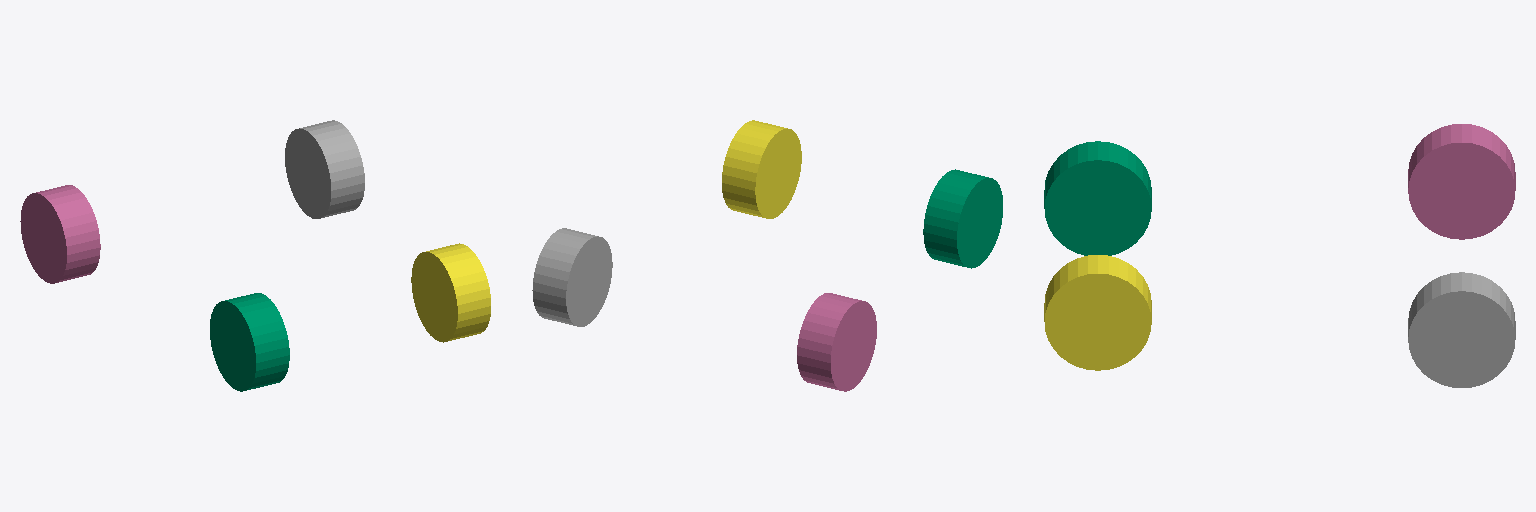
robot.urdf — ackermann_logistic_robot:
<?xml version="1.0"?>
<robot name="ackermann_logistic_robot" xmlns:xacro="http://www.ros.org/wiki/xacro">

  <!-- ============ base ============ -->
  <link name="base_link">
    <inertial>
      <origin xyz="0 0 0" rpy="0 0 0"/>
      <mass value="1.0"/>  <!-- placeholder -->
      <inertia ixx="0.1" ixy="0" ixz="0" iyy="0.1" iyz="0" izz="0.1"/>
    </inertial>
  </link>

  <!-- Chassis fixed to base_link -->
  <link name="chassis_link">
    <inertial>
      <!-- from SDF (approx) -->
      <origin xyz="1e-06 0.07307 0.65096" rpy="0 0 0"/>
      <mass value="1580"/>
      <inertia ixx="1997.86" ixy="-3e-05" ixz="-1e-06" iyy="442.769" iyz="62.5206" izz="2238.05"/>
    </inertial>

    <visual>
      <origin xyz="0 0 0" rpy="0 0 0"/>
      <geometry>
        <mesh filename="model://ackermann_logistic_robot/meshes/chassis.dae" scale="0.5 0.5 0.5"/>
      </geometry>
    </visual>

    <collision>
      <origin xyz="0 0 0" rpy="0 0 0"/>
      <geometry>
        <mesh filename="model://ackermann_logistic_robot/meshes/chassis.dae" scale="0.5 0.5 0.5"/>
      </geometry>
    </collision>
  </link>

  <joint name="chassis_link_joint" type="fixed">
    <origin xyz="0 0 0" rpy="0 0 0"/>
    <parent link="base_link"/>
    <child link="chassis_link"/>
  </joint>

  <!-- ============ rear wheels (revolute about X) ============ -->
  <!-- SDF uses axis -1 0 0; in URDF we just define +X and direction is handled by controllers -->
  <link name="bl_1">
    <inertial>
      <origin xyz="0 0 0" rpy="0 0 0"/>
      <mass value="24.5"/>
      <inertia ixx="1.84514" ixy="0" ixz="0" iyy="1.04961" iyz="0" izz="1.04961"/>
    </inertial>
    <visual>
      <origin xyz="0 0 0" rpy="0 1.5708 0"/>
      <geometry><cylinder radius="0.072" length="0.06"/></geometry>
    </visual>
    <collision>
      <origin xyz="0 0 0" rpy="0 1.5708 0"/>
      <geometry><cylinder radius="0.072" length="0.06"/></geometry>
    </collision>
  </link>

  <joint name="bl_axle" type="continuous">
    <origin xyz="-0.18 -0.244 0.0" rpy="0 0 0"/>
    <parent link="chassis_link"/>
    <child link="bl_1"/>
    <axis xyz="1 0 0"/>
    <!-- continuous: omit limits (or provide effort+velocity if you keep <limit/>) -->
  </joint>

  <link name="br_1">
    <inertial>
      <origin xyz="-0.0377 0 0" rpy="0 0 0"/>
      <mass value="24.5"/>
      <inertia ixx="1.84514" ixy="0" ixz="0" iyy="1.04961" iyz="0" izz="1.04961"/>
    </inertial>
    <visual>
      <origin xyz="0 0 0" rpy="0 1.5708 0"/>
      <geometry><cylinder radius="0.072" length="0.06"/></geometry>
    </visual>
    <collision>
      <origin xyz="0 0 0" rpy="0 1.5708 0"/>
      <geometry><cylinder radius="0.072" length="0.06"/></geometry>
    </collision>
  </link>

  <joint name="br_axle" type="continuous">
    <origin xyz="0.18 -0.244 0.0" rpy="0 0 0"/>
    <parent link="chassis_link"/>
    <child link="br_1"/>
    <axis xyz="1 0 0"/>
  </joint>

  <!-- ============ steering knuckles (revolute about Z) ============ -->
  <link name="l_steer_1">
    <inertial>
      <origin xyz="0.003381 0 0.02162" rpy="0 0 0"/>
      <mass value="1"/>
      <inertia ixx="1" ixy="0" ixz="0" iyy="1" iyz="0" izz="1"/>
    </inertial>
  </link>

  <joint name="l_steer" type="revolute">
    <origin xyz="-0.236 0.244 0.0" rpy="0 0 0"/>
    <parent link="chassis_link"/>
    <child link="l_steer_1"/>
    <axis xyz="0 0 1"/>
    <limit lower="-0.95" upper="0.95" effort="100.0" velocity="5.0"/>
  </joint>

  <link name="r_steer_1">
    <inertial>
      <origin xyz="0.003381 0 0.02162" rpy="0 0 0"/>
      <mass value="1"/>
      <inertia ixx="1" ixy="0" ixz="0" iyy="1" iyz="0" izz="1"/>
    </inertial>
  </link>

  <joint name="r_steer" type="revolute">
    <origin xyz="0.236 0.244 0.0" rpy="0 0 0"/>
    <parent link="chassis_link"/>
    <child link="r_steer_1"/>
    <axis xyz="0 0 1"/>
    <limit lower="-0.95" upper="0.95" effort="100.0" velocity="5.0"/>
  </joint>

  <!-- ============ front wheels (rotate about X, attached to the steer links) ============ -->
  <link name="fl_1">
    <inertial>
      <origin xyz="-0.0377 0 0" rpy="0 0 0"/>
      <mass value="24.5"/>
      <inertia ixx="1.84514" ixy="0" ixz="0" iyy="1.04961" iyz="0" izz="1.04961"/>
    </inertial>
    <visual>
      <origin xyz="0 0 0" rpy="0 1.5708 0"/>
      <geometry><cylinder radius="0.072" length="0.06"/></geometry>
    </visual>
    <collision>
      <origin xyz="0 0 0" rpy="0 1.5708 0"/>
      <geometry><cylinder radius="0.072" length="0.06"/></geometry>
    </collision>
  </link>

  <joint name="fl_axle" type="continuous">
    <origin xyz="0 0 0" rpy="0 0 0"/>
    <parent link="l_steer_1"/>
    <child link="fl_1"/>
    <axis xyz="1 0 0"/>
  </joint>

  <link name="fr_1">
    <inertial>
      <origin xyz="-0.0377 0 0" rpy="0 0 0"/>
      <mass value="24.5"/>
      <inertia ixx="1.84514" ixy="0" ixz="0" iyy="1.04961" iyz="0" izz="1.04961"/>
    </inertial>
    <visual>
      <origin xyz="0 0 0" rpy="0 1.5708 0"/>
      <geometry><cylinder radius="0.072" length="0.06"/></geometry>
    </visual>
    <collision>
      <origin xyz="0 0 0" rpy="0 1.5708 0"/>
      <geometry><cylinder radius="0.072" length="0.06"/></geometry>
    </collision>
  </link>

  <joint name="fr_axle" type="continuous">
    <origin xyz="0 0 0" rpy="0 0 0"/>
    <parent link="r_steer_1"/>
    <child link="fr_1"/>
    <axis xyz="1 0 0"/>
  </joint>

  <!-- ============ platform / lift: MAKE IT STATIC (fixed) ============ -->
  <link name="lift_link">
    <inertial>
      <origin xyz="0 0 0" rpy="0 0 0"/>
      <mass value="0.1"/>
      <inertia ixx="0.001" ixy="0" ixz="0" iyy="0.001" iyz="0" izz="0.001"/>
    </inertial>
    <visual>
      <origin xyz="0 0 0" rpy="0 0 0"/>
      <geometry>
        <mesh filename="model://ackermann_logistic_robot/meshes/platform.dae" scale="0.5 0.5 0.5"/>
      </geometry>
    </visual>
    <collision>
      <origin xyz="0 0 0" rpy="0 0 0"/>
      <geometry>
        <box size="0.2805 0.2 0.03"/>
      </geometry>
    </collision>
  </link>

  <!-- Static (fixed) instead of prismatic; raise +Z a bit (0.20 m) -->
  <joint name="lift_fixed_joint" type="fixed">
    <origin xyz="0 0 0.20" rpy="0 0 0"/>
    <parent link="base_link"/>
    <child link="lift_link"/>
  </joint>

  <!-- ============ Gazebo (Classic) tags ============ -->
  <!-- wheel visuals using your DAE meshes (optional prettiness) -->
  <gazebo reference="fl_1">
    <visual>
      <geometry>
        <mesh filename="model://ackermann_logistic_robot/meshes/wheel.dae" scale="0.5 0.5 0.5"/>
      </geometry>
    </visual>
  </gazebo>
  <gazebo reference="fr_1">
    <visual>
      <geometry>
        <mesh filename="model://ackermann_logistic_robot/meshes/wheel.dae" scale="0.5 0.5 0.5"/>
      </geometry>
    </visual>
  </gazebo>
  <gazebo reference="bl_1">
    <visual>
      <geometry>
        <mesh filename="model://ackermann_logistic_robot/meshes/wheel.dae" scale="0.5 0.5 0.5"/>
      </geometry>
    </visual>
  </gazebo>
  <gazebo reference="br_1">
    <visual>
      <geometry>
        <mesh filename="model://ackermann_logistic_robot/meshes/wheel.dae" scale="0.5 0.5 0.5"/>
      </geometry>
    </visual>
  </gazebo>

  <!-- Ackermann drive plugin with your joint map -->
  <gazebo>
    <plugin name="ackermann_drive" filename="libgazebo_ros_ackermann_drive.so">
      <ros>
        <remapping>cmd_vel:=cmd_vel</remapping>
        <remapping>odom:=odom</remapping>
        <remapping>distance:=distance</remapping>
      </ros>

      <update_rate>100.0</update_rate>

      <front_left_joint>fl_axle</front_left_joint>
      <front_right_joint>fr_axle</front_right_joint>
      <rear_left_joint>bl_axle</rear_left_joint>
      <rear_right_joint>br_axle</rear_right_joint>
      <left_steering_joint>l_steer</left_steering_joint>
      <right_steering_joint>r_steer</right_steering_joint>

      <max_steer>0.52</max_steer>
      <max_steering_angle>0.64</max_steering_angle>
      <max_speed>50.0</max_speed>

      <left_steering_pid_gain>[phone redacted]</left_steering_pid_gain>
      <left_steering_i_range>0 0</left_steering_i_range>
      <right_steering_pid_gain>[phone redacted]</right_steering_pid_gain>
      <right_steering_i_range>0 0</right_steering_i_range>
      <linear_velocity_pid_gain>1000 100 10</linear_velocity_pid_gain>
      <linear_velocity_i_range>0 0</linear_velocity_i_range>

      <publish_odom>true</publish_odom>
      <publish_odom_tf>true</publish_odom_tf>
      <publish_wheel_tf>true</publish_wheel_tf>
      <publish_distance>true</publish_distance>

      <odometry_frame>odom</odometry_frame>
      <robot_base_frame>chassis_link</robot_base_frame>
    </plugin>
  </gazebo>

</robot>

--- Render facts (derived) ---
The picture shows the robot from 3 angles, left to right: view 1: azimuth 30°, elevation 25°; view 2: azimuth 150°, elevation 25°; view 3: azimuth 270°, elevation 25°; orthographic projection.
Model ackermann_logistic_robot with 9 links and 8 joints (2 revolute, 4 continuous, 2 fixed), rooted at base_link, posed every joint at zero.
Links seen in each view (by area): view 1: fr_1, fl_1, bl_1, br_1; view 2: fl_1, fr_1, br_1, bl_1; view 3: br_1, fl_1, fr_1, bl_1.
Boxes of the visible links, x1,y1,x2,y2 form: fr_1: (285,120,364,218); fl_1: (20,185,100,283); bl_1: (210,293,289,391); br_1: (411,243,490,342); fl_1: (797,293,876,391); fr_1: (532,228,612,326); br_1: (722,120,801,218); bl_1: (923,169,1002,268); br_1: (1044,255,1151,370); fl_1: (1408,124,1515,239); fr_1: (1408,272,1515,387); bl_1: (1044,141,1151,255).
Bounding box of the posed robot: 0.532 × 0.632 × 0.144 m (x, y, z).
0 mesh visuals loaded from 2 distinct referenced files (none loaded); not drawn: 2 (reference not matched to a file when rendering).
